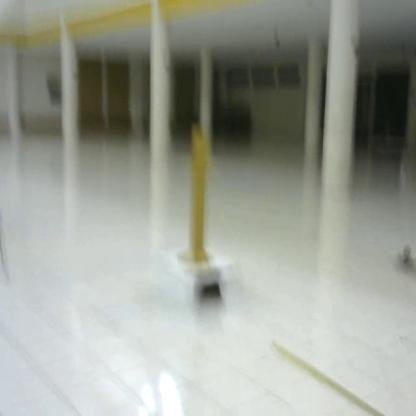pole: (180, 133, 217, 269)
